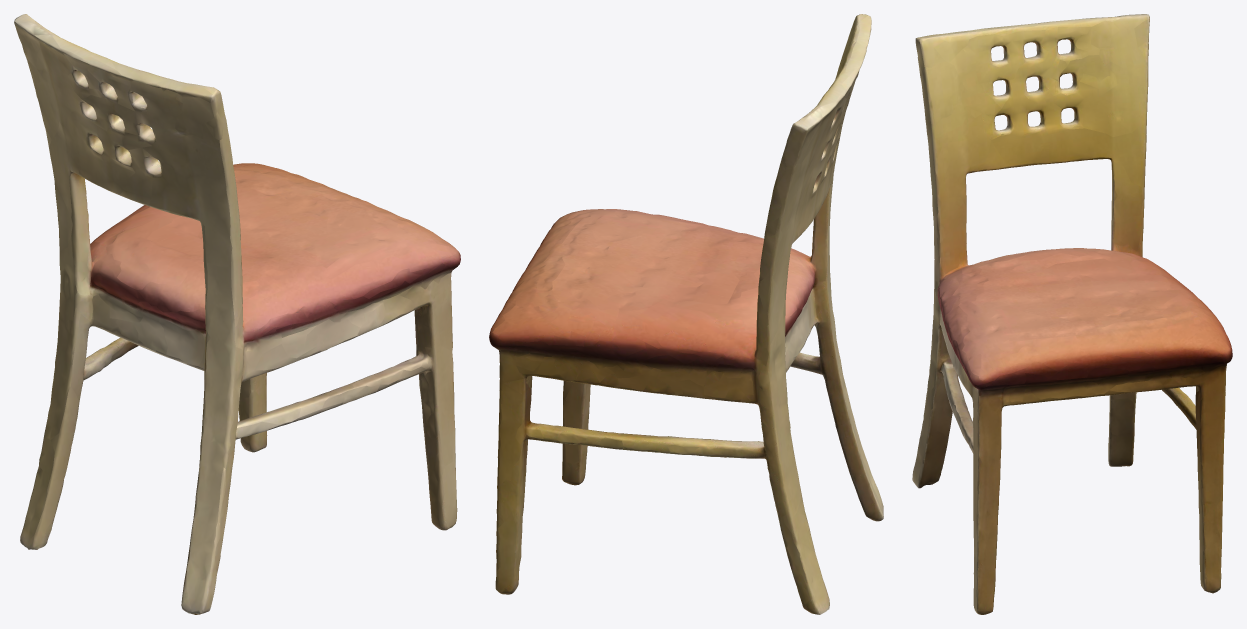
The model's file is chair-via-luma.glb.
The picture shows the model from 3 angles, left to right: view 1: azimuth 30°, elevation 25°; view 2: azimuth 150°, elevation 25°; view 3: azimuth 270°, elevation 25°; orthographic projection. The views are drawn at different scales.
Parts seen in each view (by area): view 1: mesh0_prim0_n3d, mesh0_prim1_n3d, mesh0_prim2_n3d, mesh0_prim3_n3d, mesh0_prim4_n3d; view 2: mesh0_prim0_n3d, mesh0_prim1_n3d, mesh0_prim2_n3d, mesh0_prim3_n3d, mesh0_prim4_n3d, mesh0_prim5_n3d; view 3: mesh0_prim0_n3d, mesh0_prim1_n3d, mesh0_prim2_n3d, mesh0_prim3_n3d, mesh0_prim4_n3d, mesh0_prim5_n3d.
Boxes of the visible parts, x1,y1,x2,y2 form: mesh0_prim0_n3d: (14, 14, 460, 614); mesh0_prim1_n3d: (20, 14, 460, 611); mesh0_prim2_n3d: (14, 15, 458, 614); mesh0_prim3_n3d: (24, 72, 454, 611); mesh0_prim4_n3d: (36, 65, 458, 562); mesh0_prim0_n3d: (489, 14, 883, 610); mesh0_prim1_n3d: (494, 37, 883, 614); mesh0_prim2_n3d: (490, 24, 868, 608); mesh0_prim3_n3d: (489, 18, 883, 614); mesh0_prim4_n3d: (496, 14, 879, 580); mesh0_prim5_n3d: (489, 150, 825, 614); mesh0_prim0_n3d: (912, 14, 1231, 614); mesh0_prim1_n3d: (927, 16, 1232, 613); mesh0_prim2_n3d: (913, 14, 1232, 587); mesh0_prim3_n3d: (929, 40, 1231, 590); mesh0_prim4_n3d: (920, 17, 1226, 590); mesh0_prim5_n3d: (918, 42, 1227, 611).
Size of the model in its own units: 0.7717 by 1.1 by 0.6863.
6 materials, 6 textured.
